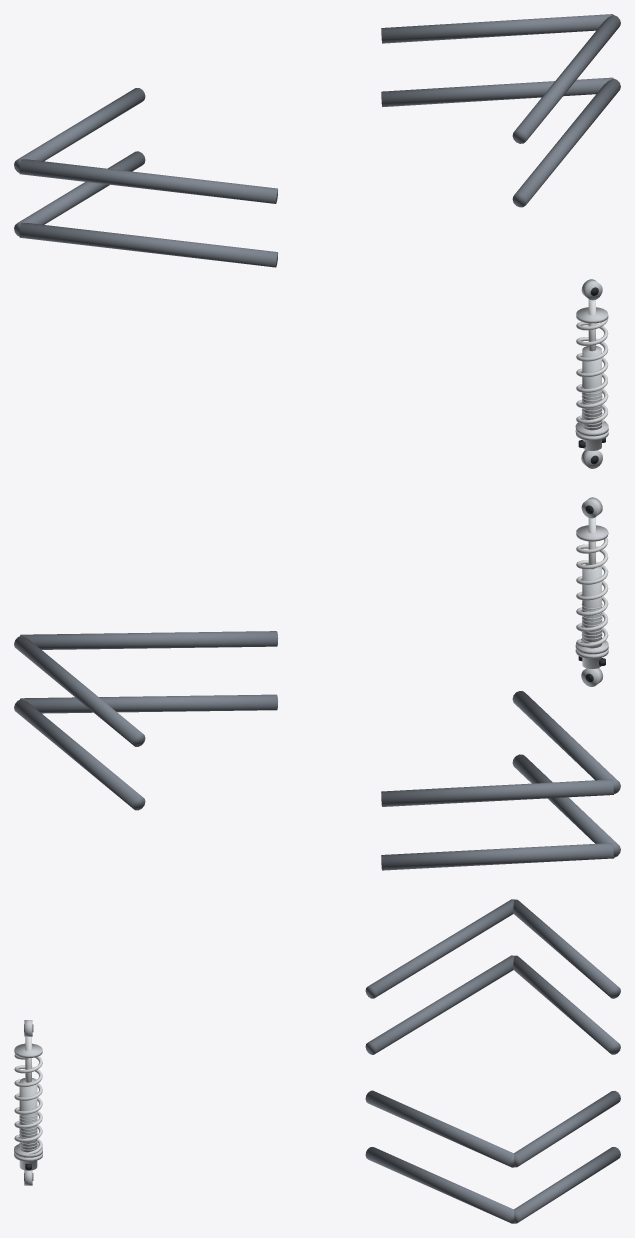
The model's file is ddmworks-sm3223-silver.glb.
3 views of the same model, one above another, from view 1: azimuth 30°, elevation 25°; view 2: azimuth 150°, elevation 25°; view 3: azimuth 270°, elevation 25° (orthographic). The views are drawn at different scales.
Parts seen in each view (by area): view 1: carrier_front_left__P03A_Machined_Aluminum, carrier_front_right__P03A_Machined_Aluminum, ddm_lower__DDM_silver_anodized, ddm_spring__DDM_silver_spring, ddm_upper__DDM_silver_anodized; view 2: carrier_front_right__P03A_Machined_Aluminum, carrier_front_left__P03A_Machined_Aluminum, ddm_lower__DDM_silver_anodized, ddm_spring__DDM_silver_spring, ddm_upper__DDM_silver_anodized; view 3: carrier_front_left__P03A_Machined_Aluminum, carrier_front_right__P03A_Machined_Aluminum, ddm_lower__DDM_silver_anodized, ddm_spring__DDM_silver_spring, ddm_upper__DDM_silver_anodized.
Part boxes in pixels (x1,y1,x2,y2): carrier_front_left__P03A_Machined_Aluminum: (14,88,278,267); carrier_front_right__P03A_Machined_Aluminum: (381,14,620,207); ddm_lower__DDM_silver_anodized: (575,346,608,468); ddm_spring__DDM_silver_spring: (576,318,608,423); ddm_upper__DDM_silver_anodized: (576,279,608,323); carrier_front_right__P03A_Machined_Aluminum: (14,631,278,810); carrier_front_left__P03A_Machined_Aluminum: (381,691,620,870); ddm_lower__DDM_silver_anodized: (575,564,608,686); ddm_spring__DDM_silver_spring: (576,537,608,647); ddm_upper__DDM_silver_anodized: (576,497,608,541); carrier_front_left__P03A_Machined_Aluminum: (365,899,620,1054); carrier_front_right__P03A_Machined_Aluminum: (365,1090,620,1223); ddm_lower__DDM_silver_anodized: (14,1078,42,1185); ddm_spring__DDM_silver_spring: (14,1054,42,1154); ddm_upper__DDM_silver_anodized: (14,1020,42,1057).
Size of the model in its own units: 1.68 by 0.497 by 1.67.
Materials: 5 (1 with a texture image).
